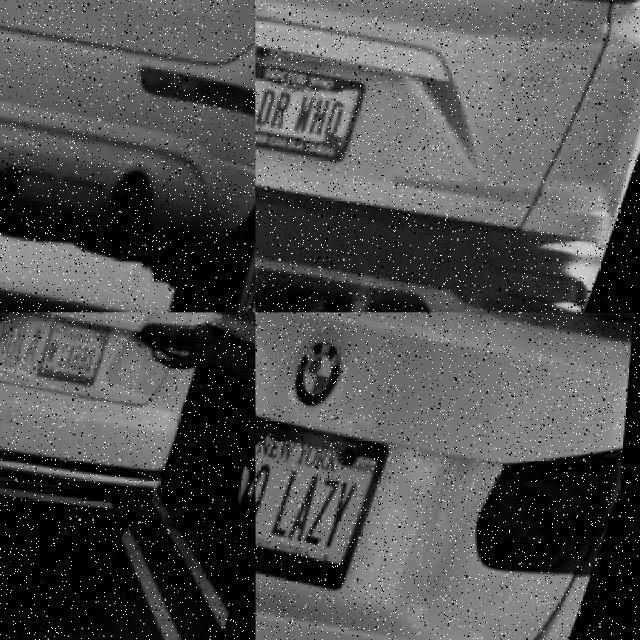LicensePlate: (254, 419, 395, 595), (254, 64, 372, 165), (32, 0, 143, 49)
